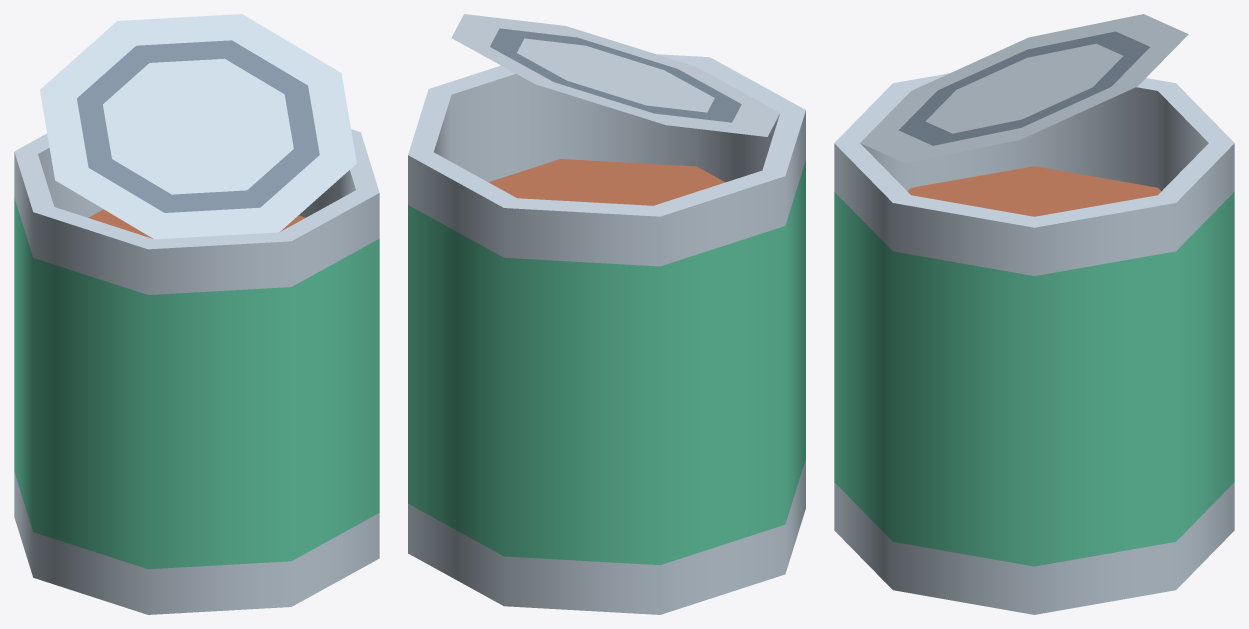
File: canOpen.obj
3 views of the same model, side by side, from view 1: azimuth 30°, elevation 25°; view 2: azimuth 150°, elevation 25°; view 3: azimuth 270°, elevation 25° (orthographic). The views are drawn at different scales.
Visible parts, largest first — view 1: canOpen; view 2: canOpen; view 3: canOpen.
Part boxes in pixels (x1,y1,x2,y2): canOpen: [14, 14, 379, 614]; canOpen: [408, 14, 805, 614]; canOpen: [834, 14, 1234, 614].
Bounding box in the file's own units: 0.3 × 0.4071 × 0.3.
